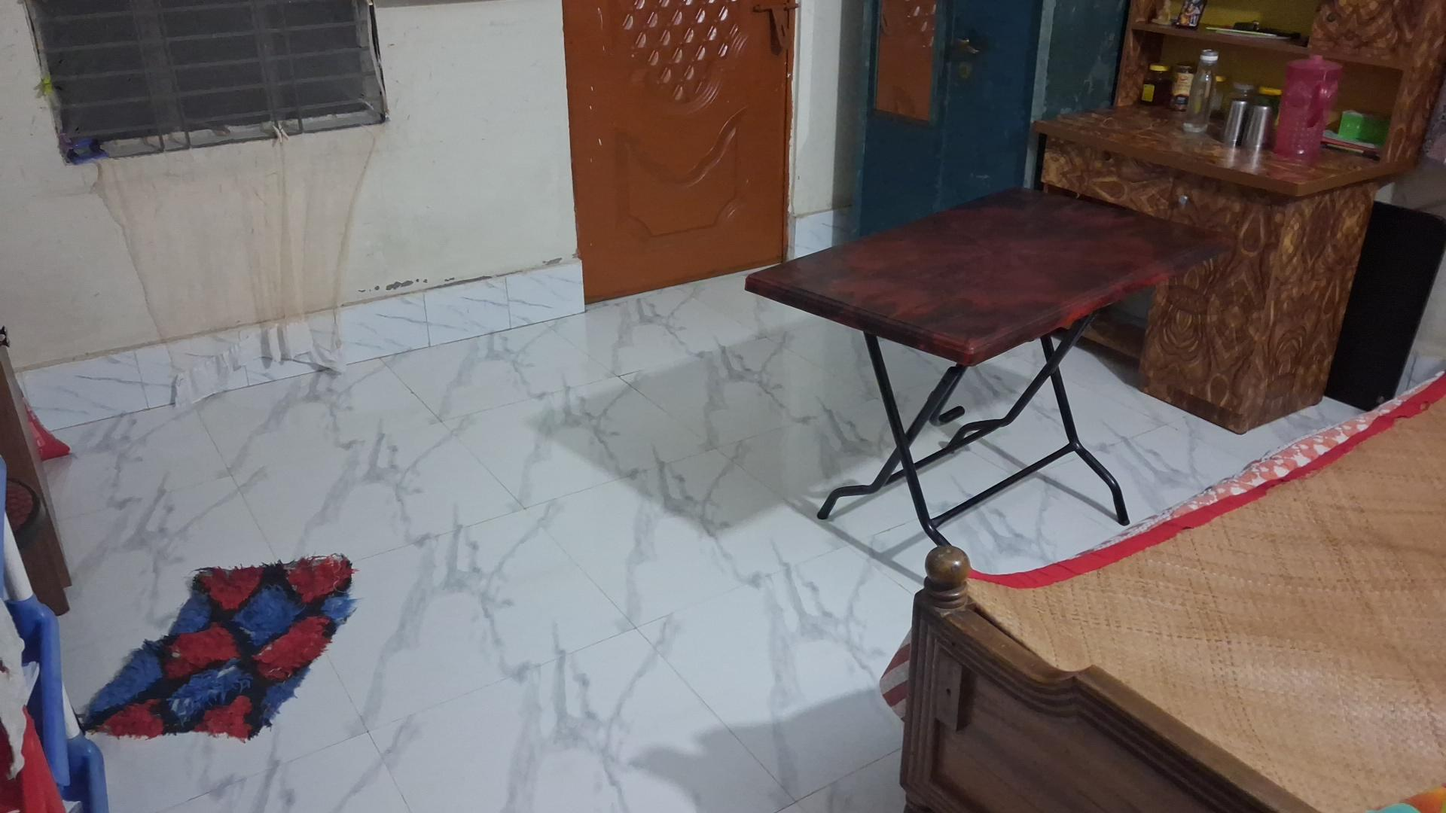Bottle: (1182, 48, 1219, 135)
Box: (1338, 104, 1384, 146)
Door: (553, 2, 802, 302)
Floor Mat: (64, 562, 382, 746)
Glass: (1246, 101, 1271, 153), (1224, 94, 1247, 148)
Jar: (1171, 65, 1192, 112), (1143, 64, 1166, 105)
Jug: (1280, 52, 1342, 169)
Table: (741, 156, 1194, 534)
Window: (33, 0, 418, 169)
